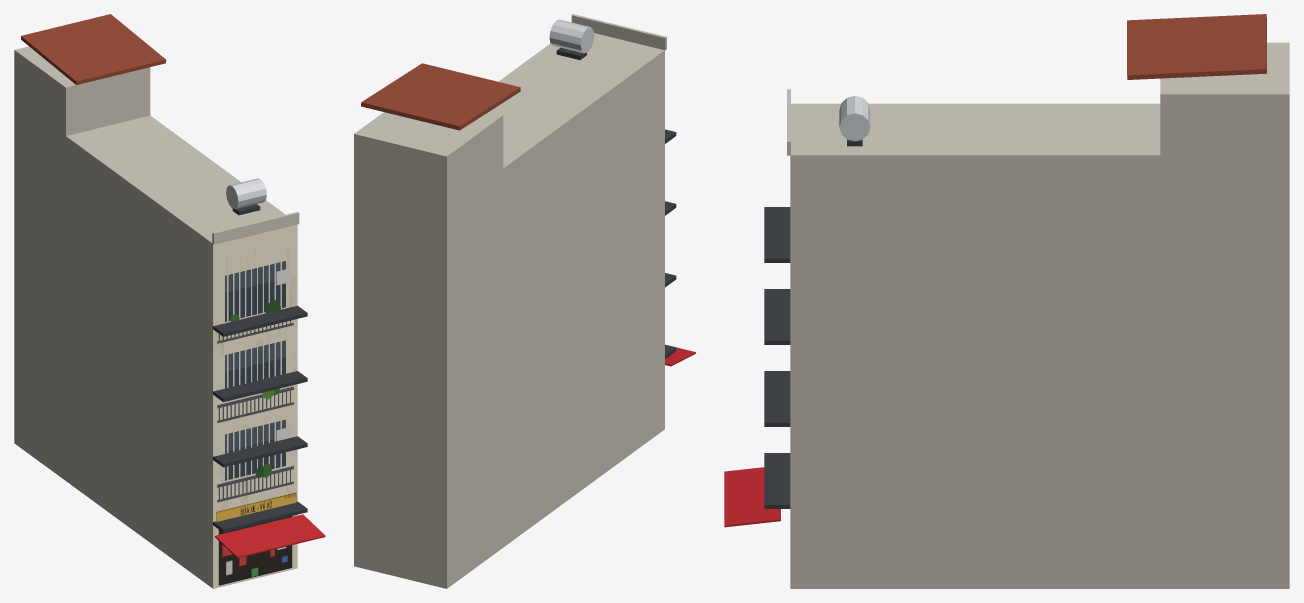
Rendered from tube_house_f.glb.
3 views of the same model, side by side, from view 1: azimuth 30°, elevation 25°; view 2: azimuth 150°, elevation 25°; view 3: azimuth 270°, elevation 25° (orthographic). The views are drawn at different scales.
Visible parts, largest first — view 1: tubehouse; view 2: tubehouse; view 3: tubehouse.
Boxes of the visible parts, left/top/right/bottom form: tubehouse: left=14, top=14, right=325, bottom=588; tubehouse: left=354, top=14, right=695, bottom=588; tubehouse: left=724, top=14, right=1289, bottom=588.
Size of the model in its own units: 5.04 by 22.25 by 21.85.
Materials: 7 (2 with a texture image).
